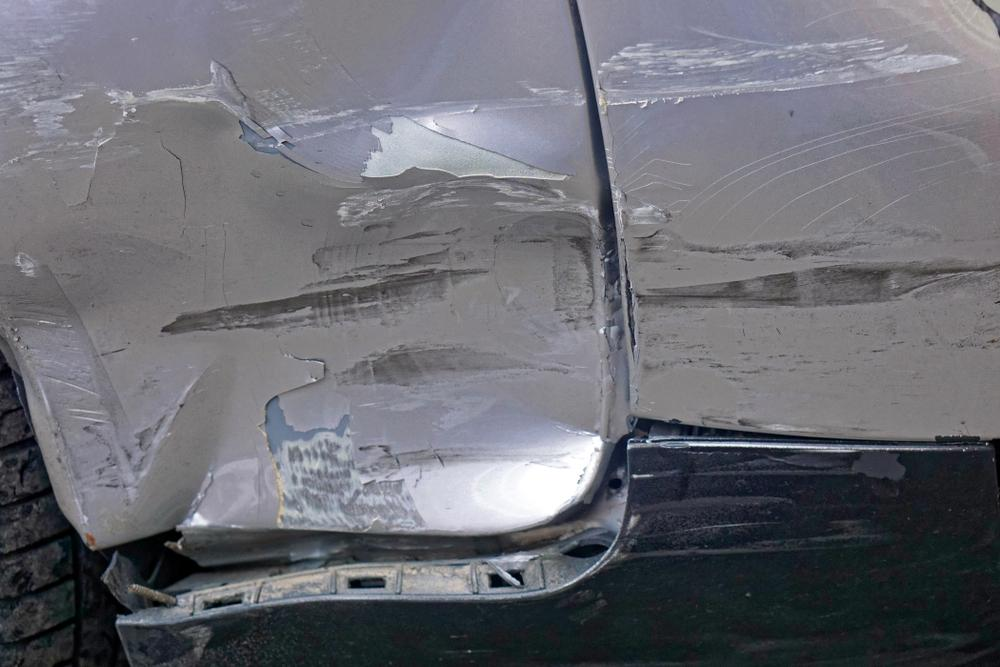dent: (0, 0, 609, 531)
scratch: (598, 0, 1000, 443), (611, 439, 909, 570), (0, 0, 132, 166)
